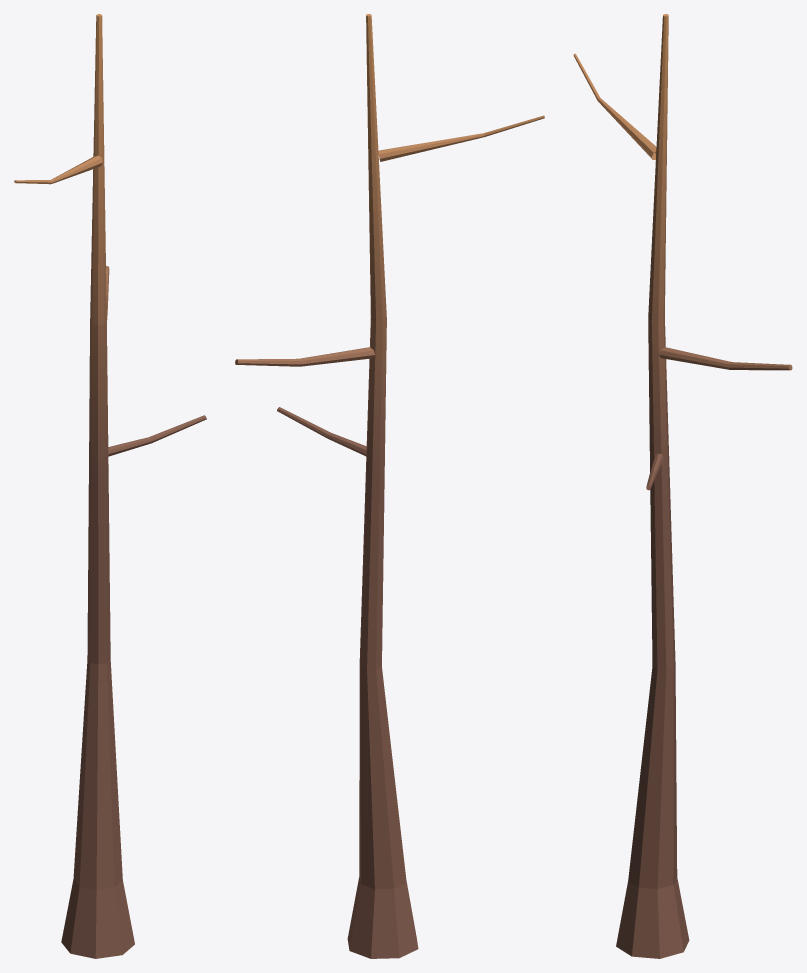
The model's file is tree03.obj.
3 renders of one model, left to right at view 1: azimuth 30°, elevation 25°; view 2: azimuth 150°, elevation 25°; view 3: azimuth 270°, elevation 25°, orthographic.
Parts seen in each view (by area): view 1: Cylinder.022_Cylinder.040; view 2: Cylinder.022_Cylinder.040; view 3: Cylinder.022_Cylinder.040.
Boxes of the visible parts, x1=… form: Cylinder.022_Cylinder.040: x1=14, y1=14, x2=206, y2=958; Cylinder.022_Cylinder.040: x1=235, y1=14, x2=544, y2=958; Cylinder.022_Cylinder.040: x1=573, y1=14, x2=792, y2=958.
Bounding box in the file's own units: 5.65 × 21.8 × 4.64.
